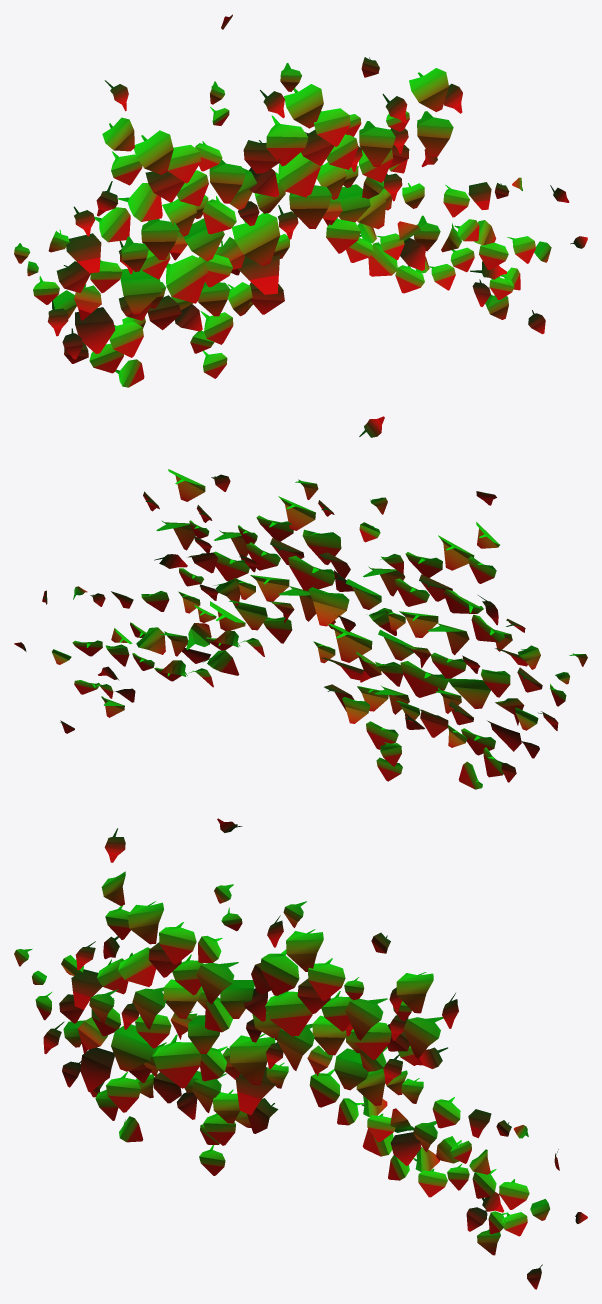
File: Lierre5_LOD0.fbx
The picture shows the model from 3 angles, top to bottom: view 1: azimuth 30°, elevation 25°; view 2: azimuth 150°, elevation 25°; view 3: azimuth 330°, elevation 25°; orthographic projection.
Parts seen in each view (by area): view 1: _d34e_Var4_LOD1; view 2: _d34e_Var4_LOD1; view 3: _d34e_Var4_LOD1.
Part boxes in pixels (x1,y1,x2,y2): _d34e_Var4_LOD1: (14, 14, 587, 387); _d34e_Var4_LOD1: (14, 416, 587, 789); _d34e_Var4_LOD1: (14, 818, 587, 1289).
Bounding box in the file's own units: 85.9 × 56.51 × 9.08.
